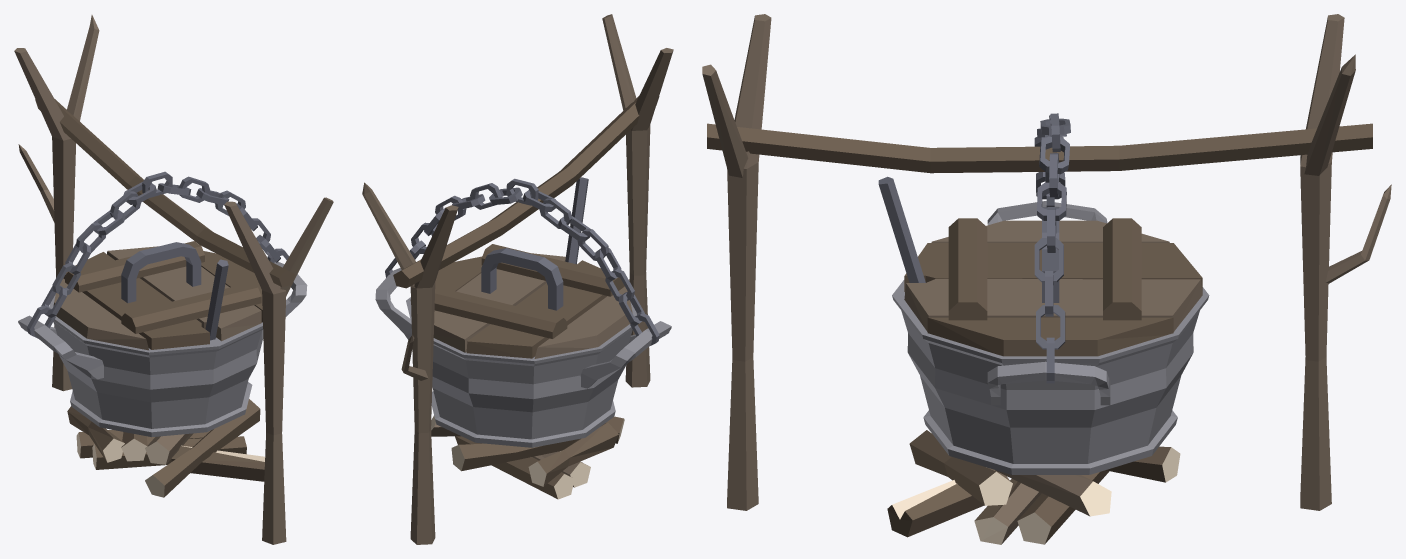
Rendered from pot_2.glb.
3 views of the same model, side by side, from view 1: azimuth 30°, elevation 25°; view 2: azimuth 150°, elevation 25°; view 3: azimuth 270°, elevation 25° (orthographic). The views are drawn at different scales.
Visible parts, largest first — view 1: pot_2; view 2: pot_2; view 3: pot_2.
Part boxes in pixels (x1=…): pot_2: x1=14, y1=15, x2=333, y2=544; pot_2: x1=362, y1=14, x2=673, y2=544; pot_2: x1=702, y1=14, x2=1391, y2=544.
Size of the model in its own units: 0.3035 by 0.3827 by 0.5.
1 material, 1 textured.
